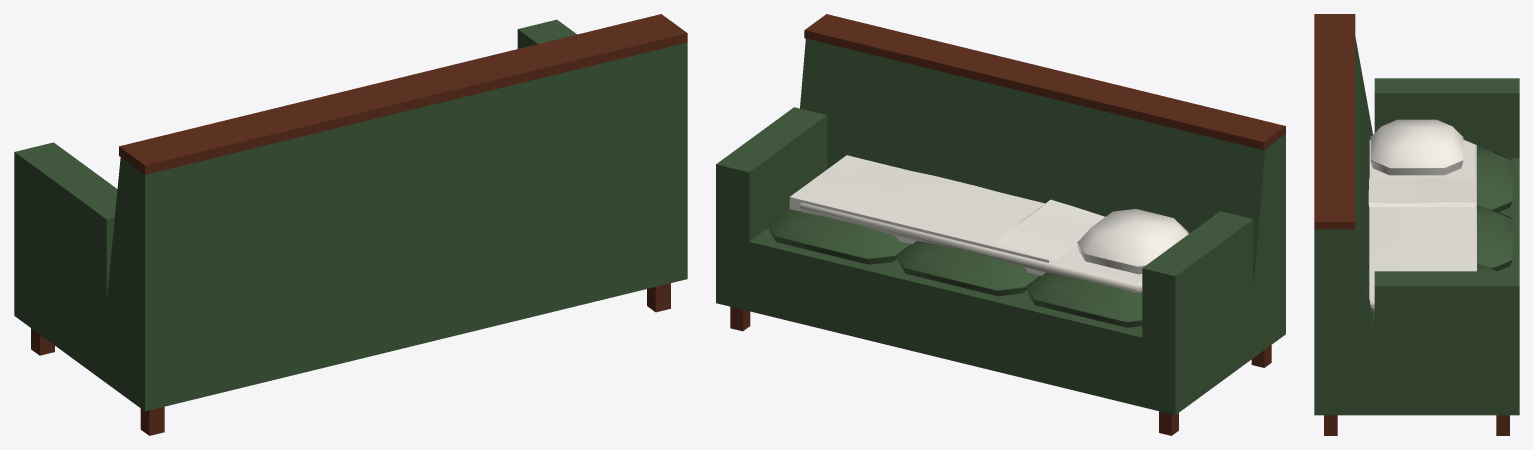
3 views of the same model, side by side, from view 1: azimuth 30°, elevation 25°; view 2: azimuth 150°, elevation 25°; view 3: azimuth 270°, elevation 25° (orthographic). The views are drawn at different scales.
Parts seen in each view (by area): view 1: parametric-variant-sofa-1st-f205e94b15378603ddc6; view 2: parametric-variant-sofa-1st-f205e94b15378603ddc6; view 3: parametric-variant-sofa-1st-f205e94b15378603ddc6.
Boxes of the visible parts, left/top/right/bottom form: parametric-variant-sofa-1st-f205e94b15378603ddc6: left=14, top=14, right=687, bottom=435; parametric-variant-sofa-1st-f205e94b15378603ddc6: left=716, top=14, right=1285, bottom=435; parametric-variant-sofa-1st-f205e94b15378603ddc6: left=1314, top=14, right=1519, bottom=435.
Bounding box in the file's own units: 1.8 × 0.88 × 0.75.
